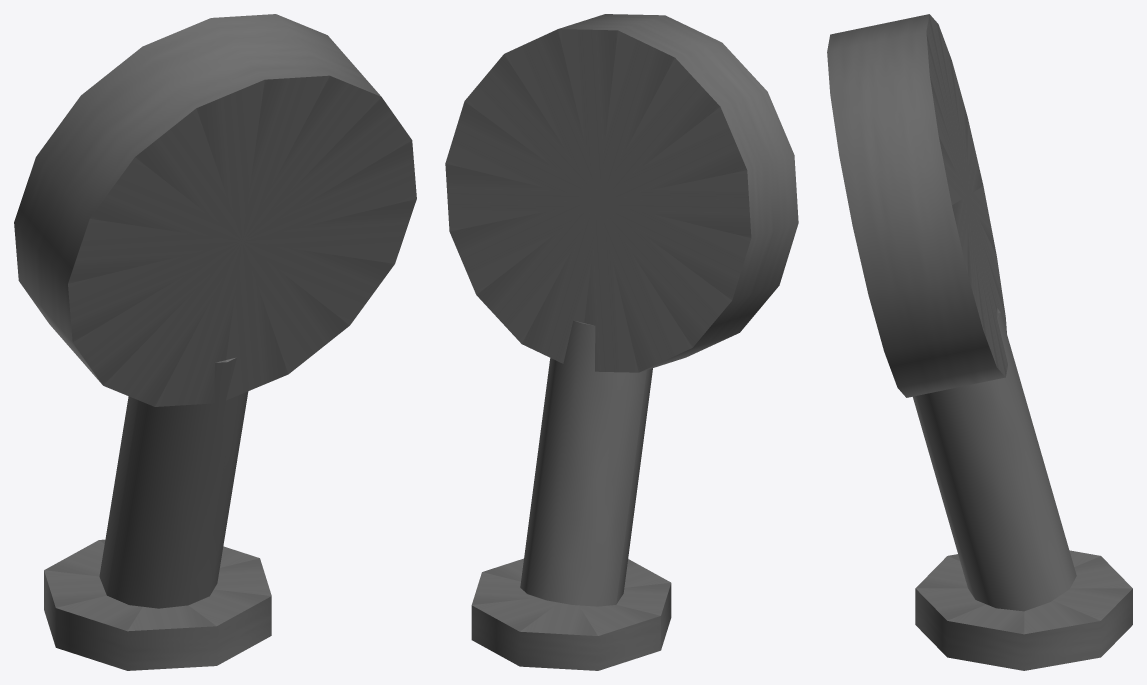
The model's file is mastarmcurve_10x2_c5_down.obj.
3 views of the same model, side by side, from view 1: azimuth 30°, elevation 25°; view 2: azimuth 150°, elevation 25°; view 3: azimuth 270°, elevation 25° (orthographic). The views are drawn at different scales.
Visible parts, largest first — view 1: mastarm_10x2_c5_down; view 2: mastarm_10x2_c5_down; view 3: mastarm_10x2_c5_down.
Part boxes in pixels (bbox=[...]): mastarm_10x2_c5_down: bbox=[14, 14, 416, 670]; mastarm_10x2_c5_down: bbox=[445, 14, 798, 670]; mastarm_10x2_c5_down: bbox=[827, 14, 1132, 670].
Size of the model in its own units: 0.6837 by 1.2 by 0.5627.
